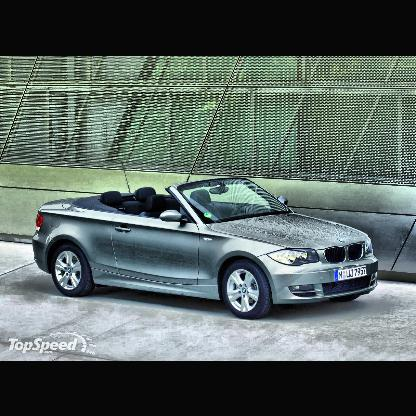BMW 1 Series Convertible 2012: (33, 173, 381, 324)
